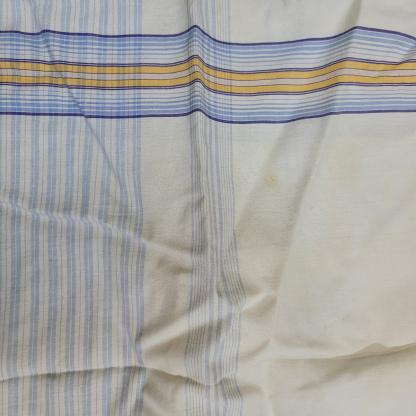spot: (263, 166, 279, 188)
